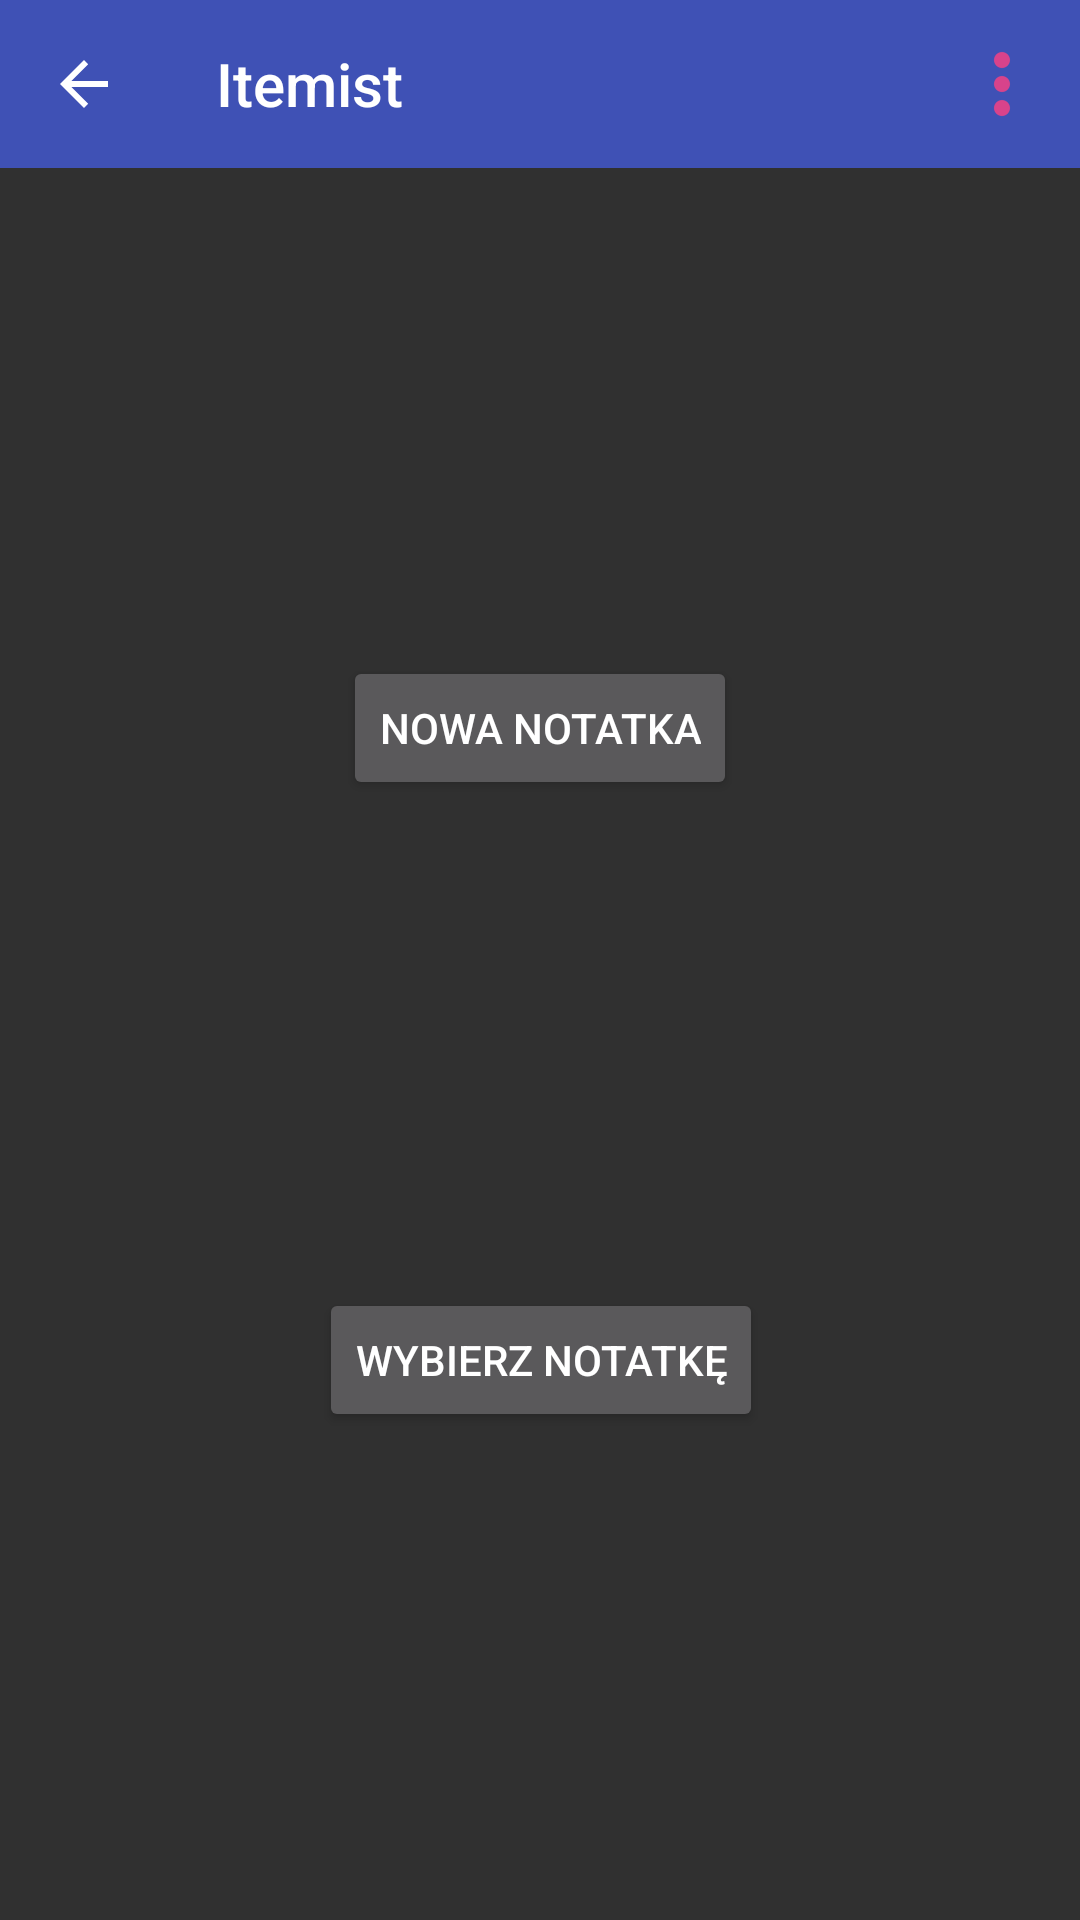

Where icons sit on this 1080x1920 app screen, as region(x1, y1, x2, y2):
Przyciski wiecej: region(994, 52, 1010, 116)
